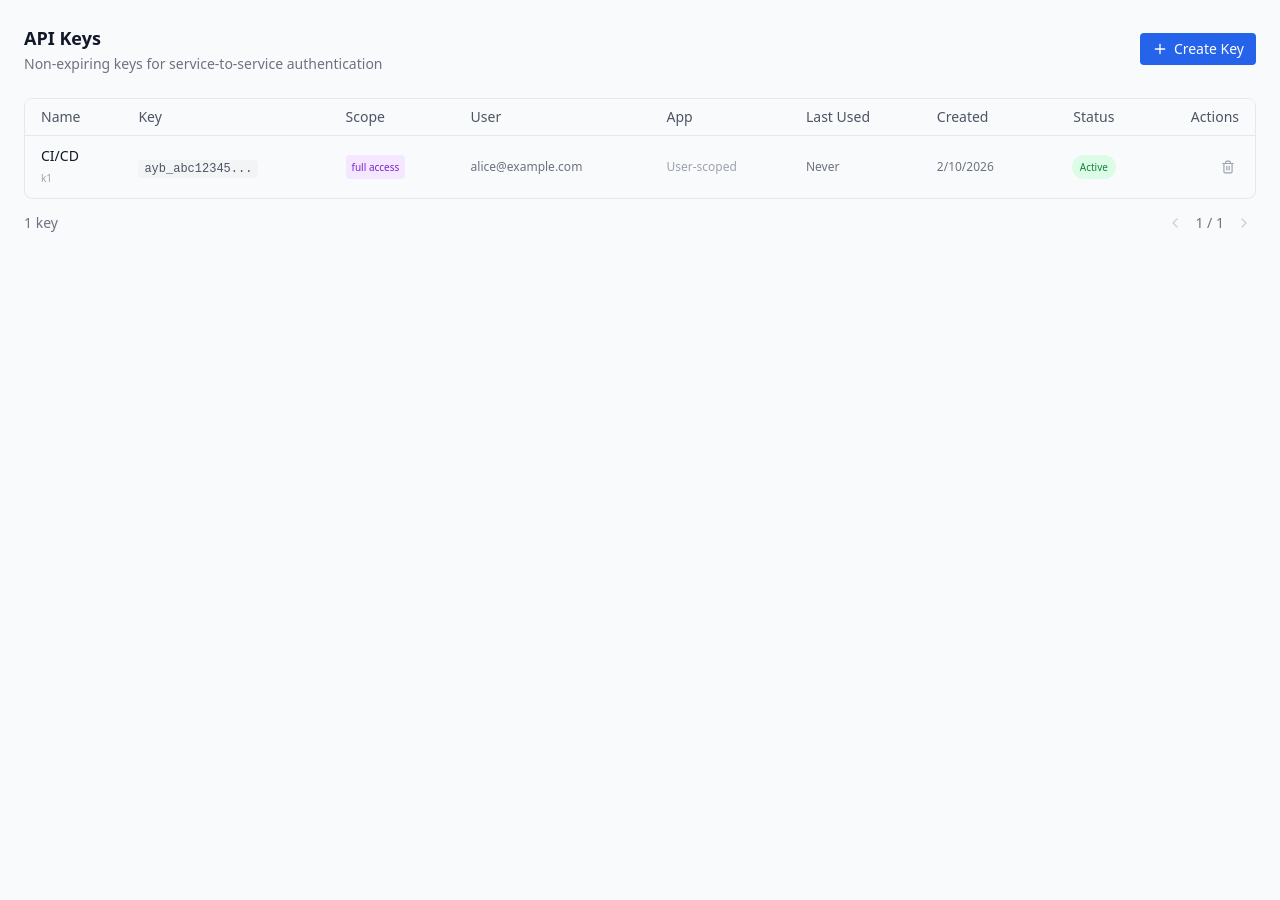
it: ApiKeys › revoke button opens confirmation dialog
expect the text "CI/CD" is shown: met, box [41, 146, 79, 165]
Click the button titled "Revoke key" at [1228, 167], box [1217, 156, 1239, 178]
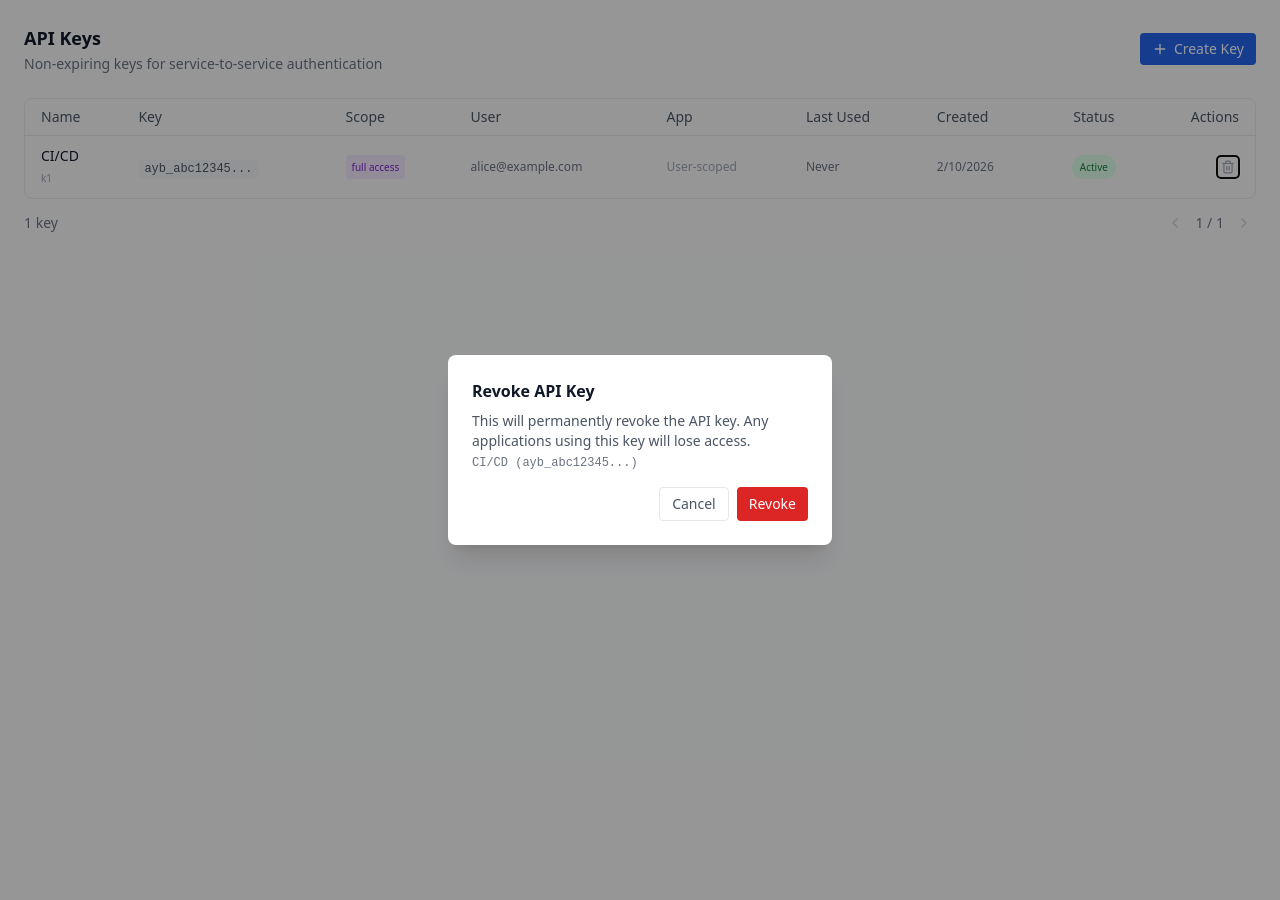
expect the heading "Revoke API Key" is shown: met, box [472, 380, 595, 402]
expect the text "This will permanently revoke the API key" is shown: met, box [472, 411, 768, 450]
